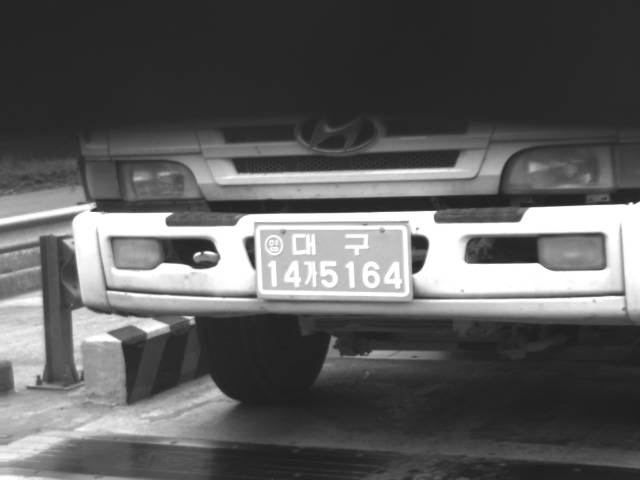car: (70, 67, 638, 404)
plate: (255, 225, 412, 298)
